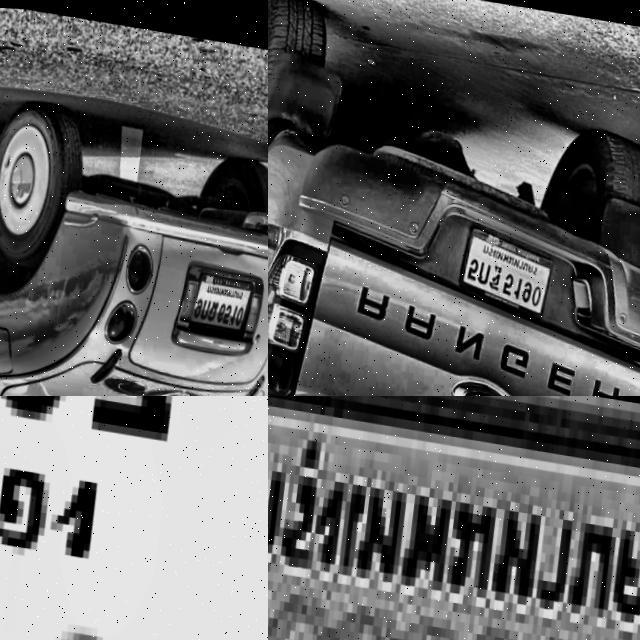license-plate: (268, 396, 640, 640), (0, 396, 268, 640), (453, 219, 557, 317), (184, 264, 255, 336)
